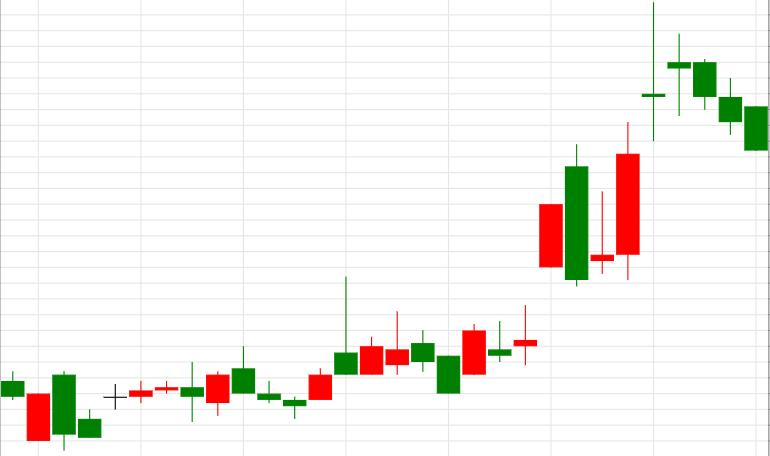bearish_engulfing_fall: (463, 143, 589, 375)
